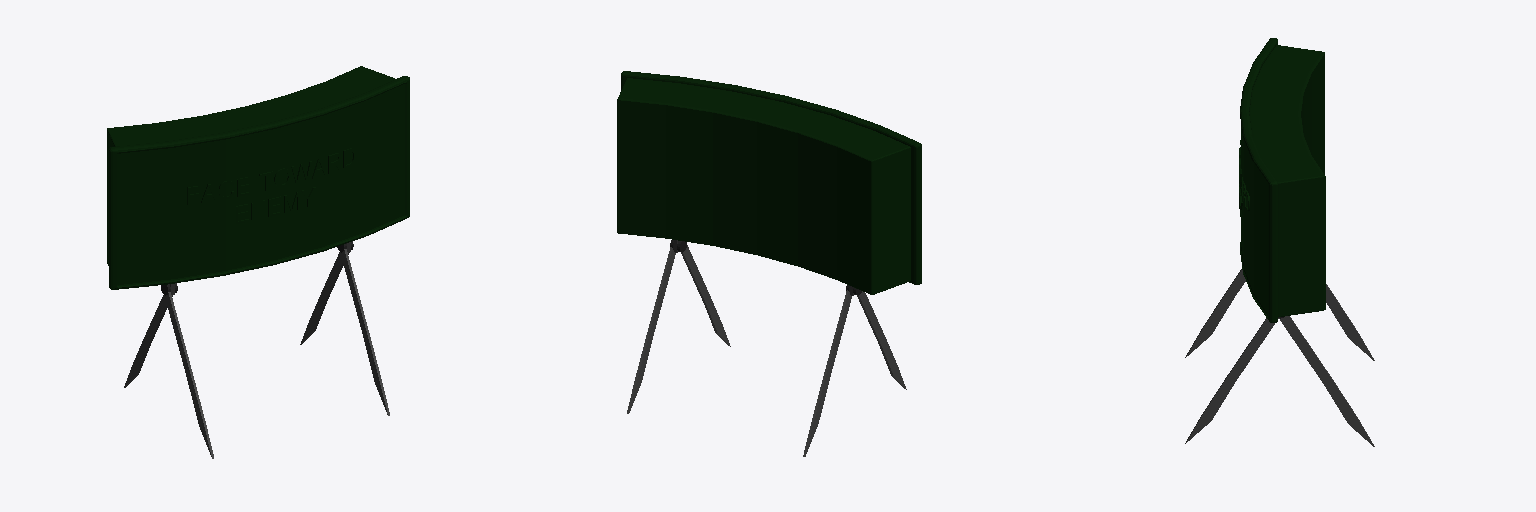
3 renders of one model, left to right at view 1: azimuth 30°, elevation 25°; view 2: azimuth 150°, elevation 25°; view 3: azimuth 270°, elevation 25°, orthographic.
Visible parts, largest first — view 1: ChamferBox001, ChamferBo0, Text01, Line04, Line06, Line05, Line03; view 2: ChamferBo0, ChamferBox001, Line03, Line05, Line04, Line06; view 3: ChamferBo0, ChamferBox001, Line03, Line04, Line06, Line05.
Boxes of the visible parts, x1=… form: ChamferBox001: x1=109, y1=76, x2=409, y2=289; ChamferBo0: x1=107, y1=66, x2=394, y2=265; Text01: x1=187, y1=148, x2=355, y2=223; Line04: x1=340, y1=249, x2=389, y2=415; Line06: x1=164, y1=292, x2=213, y2=458; Line05: x1=124, y1=295, x2=172, y2=387; Line03: x1=300, y1=252, x2=348, y2=344; ChamferBo0: x1=617, y1=78, x2=910, y2=294; ChamferBox001: x1=621, y1=71, x2=921, y2=284; Line03: x1=627, y1=247, x2=675, y2=413; Line05: x1=803, y1=290, x2=851, y2=456; Line04: x1=681, y1=245, x2=730, y2=346; Line06: x1=857, y1=291, x2=906, y2=389; ChamferBo0: x1=1249, y1=45, x2=1325, y2=316; ChamferBox001: x1=1240, y1=38, x2=1277, y2=322; Line03: x1=1279, y1=316, x2=1374, y2=446; Line04: x1=1185, y1=318, x2=1278, y2=443; Line06: x1=1185, y1=269, x2=1245, y2=357; Line05: x1=1326, y1=284, x2=1374, y2=360.
Size of the model in its own units: 18.98 by 17.65 by 10.4.